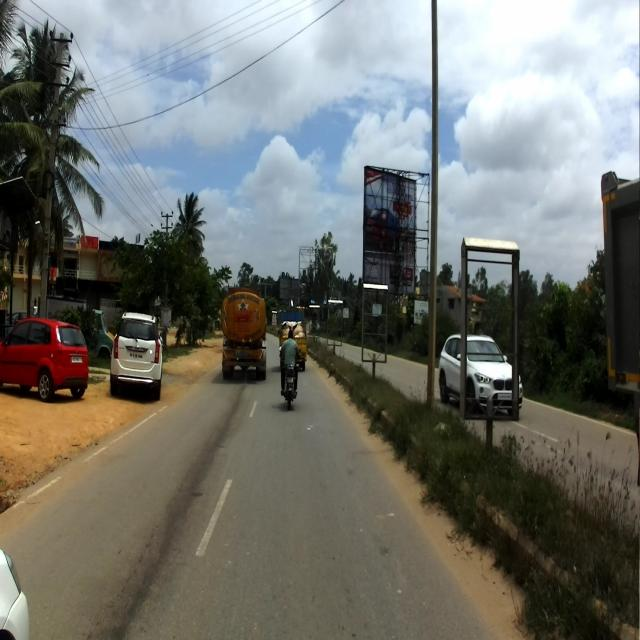car: (0, 317, 90, 402), (437, 333, 523, 418), (111, 305, 163, 402)
